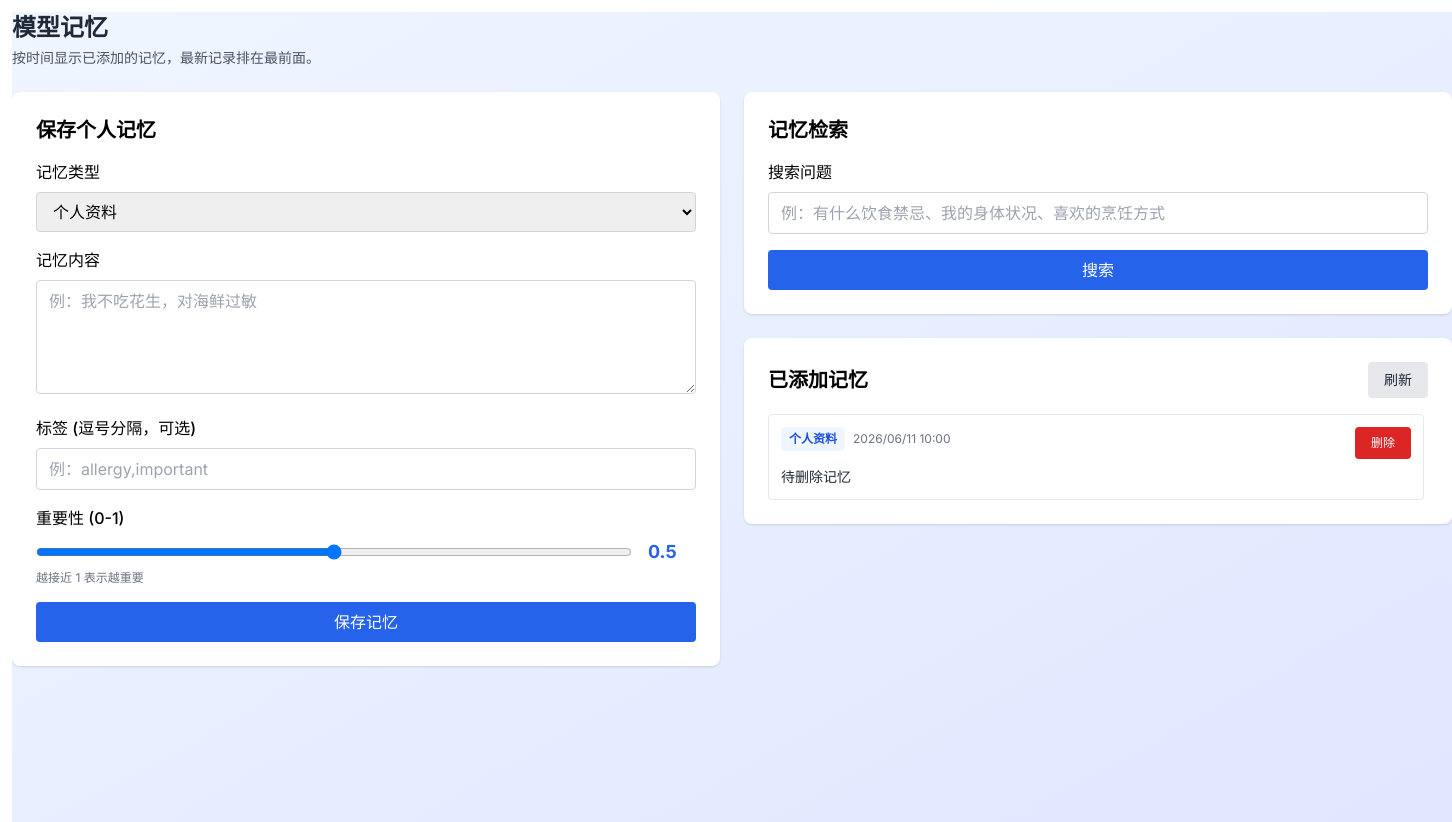
MemorySearch › deletes a saved memory from the list
Expected: the text "待删除记忆" is shown, [781, 468, 851, 485]
Click the button "删除" at [1383, 443], box [1355, 427, 1411, 459]
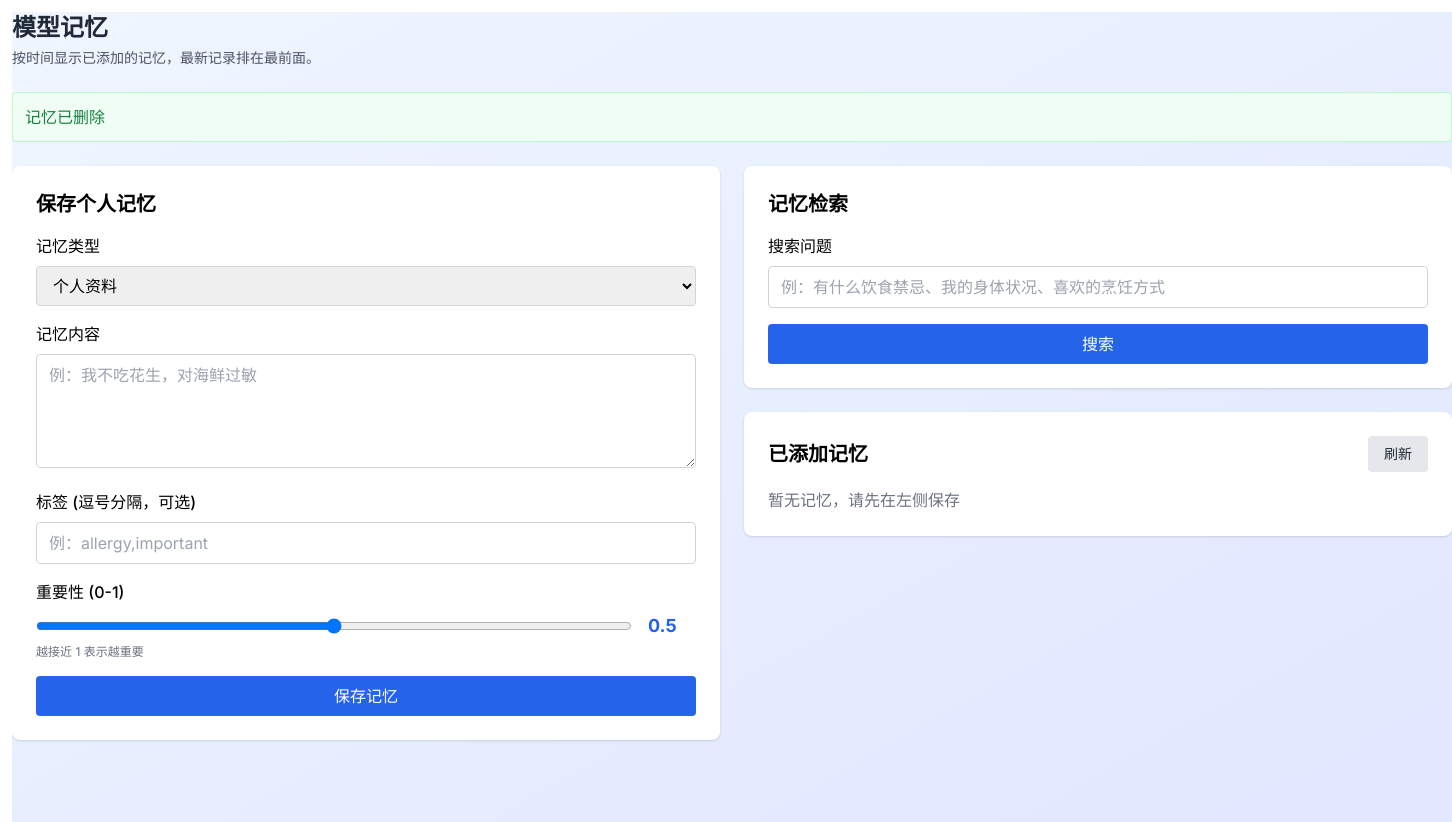
Now the text "待删除记忆" is gone
